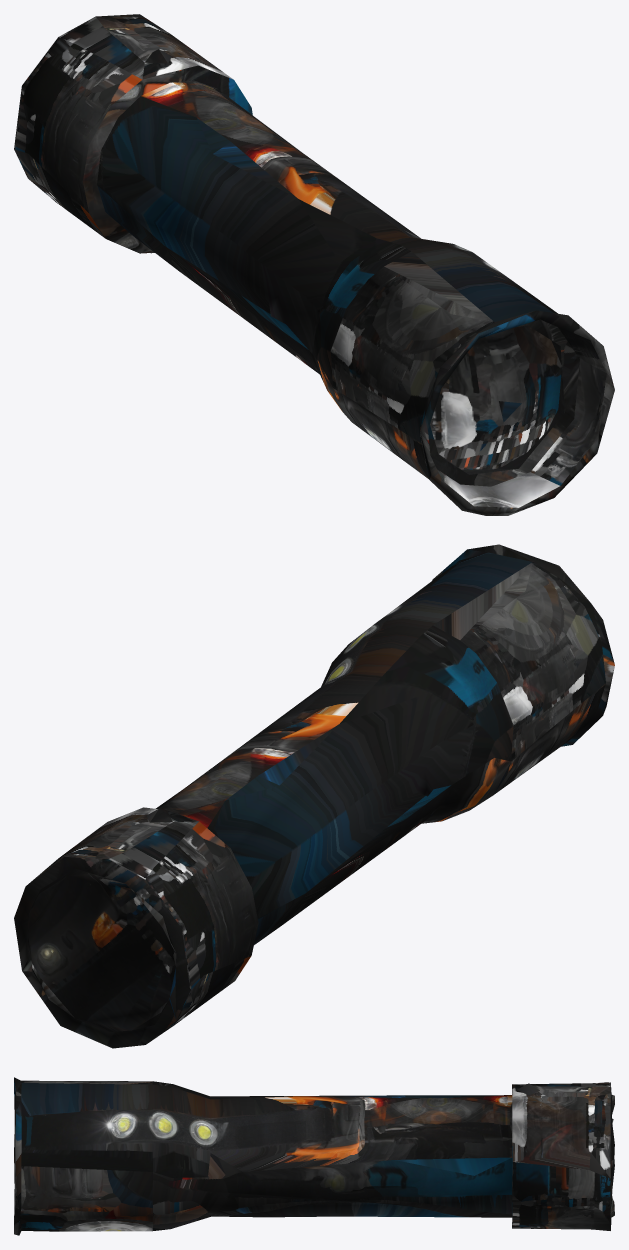
File: torch1.fbx
3 renders of one model, top to bottom at view 1: azimuth 30°, elevation 25°; view 2: azimuth 150°, elevation 25°; view 3: azimuth 270°, elevation 25°, orthographic. The views are drawn at different scales.
Visible parts, largest first — view 1: Mesh1_Mesh1.036; view 2: Mesh1_Mesh1.036; view 3: Mesh1_Mesh1.036.
Part boxes in pixels (<box>): Mesh1_Mesh1.036: <box>14,14,614,515</box>; Mesh1_Mesh1.036: <box>14,544,614,1048</box>; Mesh1_Mesh1.036: <box>14,1077,614,1235</box>.
Bounding box in the file's own units: 53.67 × 53.27 × 200.
